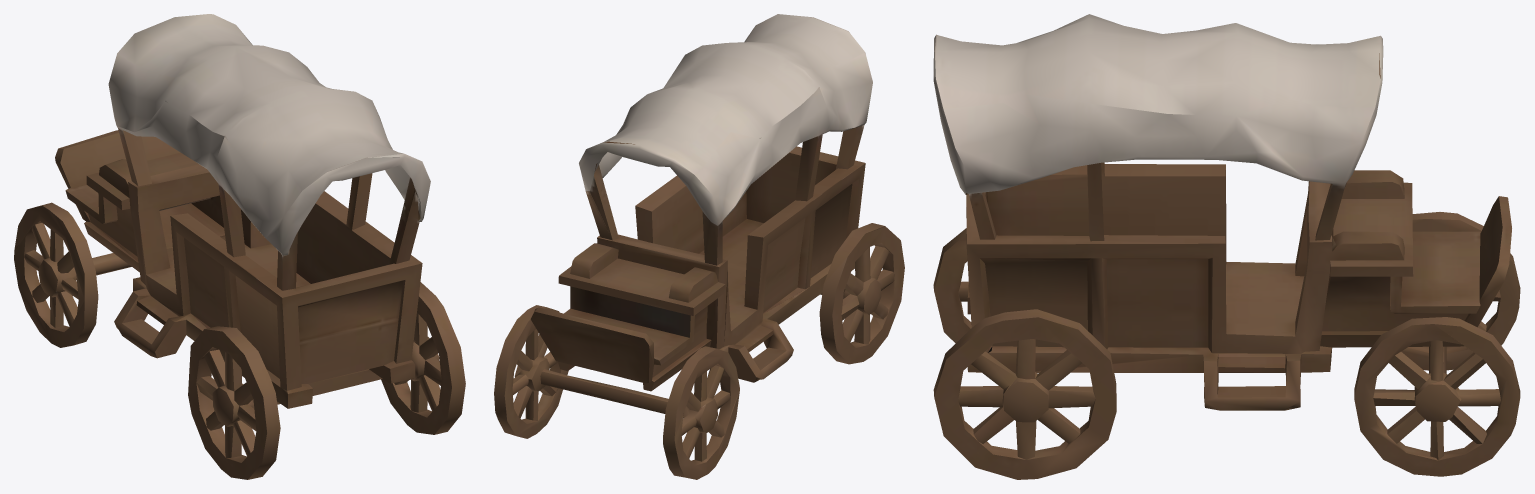
File: 四輪車.glb
3 views of the same model, side by side, from view 1: azimuth 30°, elevation 25°; view 2: azimuth 150°, elevation 25°; view 3: azimuth 270°, elevation 25° (orthographic). The views are drawn at different scales.
Visible parts, largest first — view 1: geometry_0; view 2: geometry_0; view 3: geometry_0.
Part boxes in pixels (x1,y1,x2,y2): geometry_0: (14,14,465,479); geometry_0: (494,14,904,479); geometry_0: (933,14,1520,479).
Size of the model in its own units: 0.5007 by 0.7406 by 1.
Materials: 1 (1 with a texture image).
